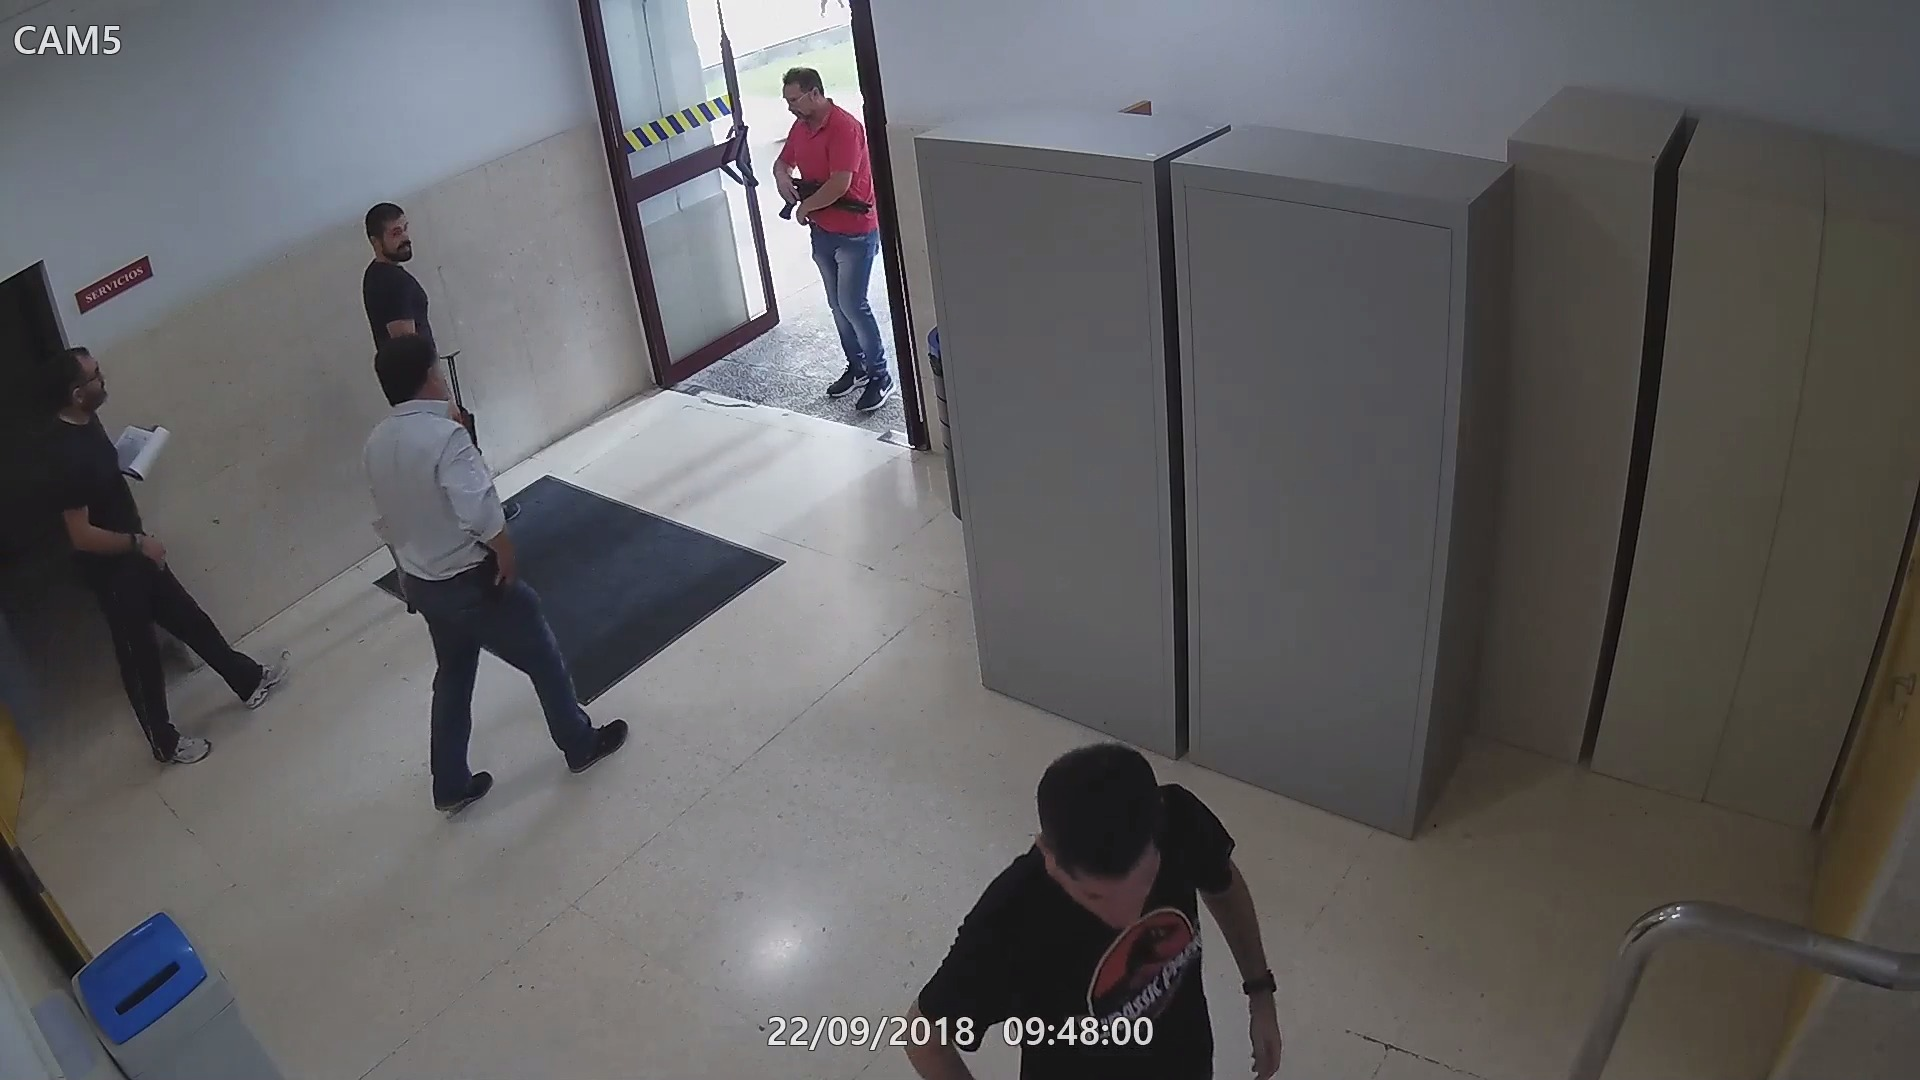Short_rifle: (778, 178, 866, 224), (436, 400, 477, 448)
